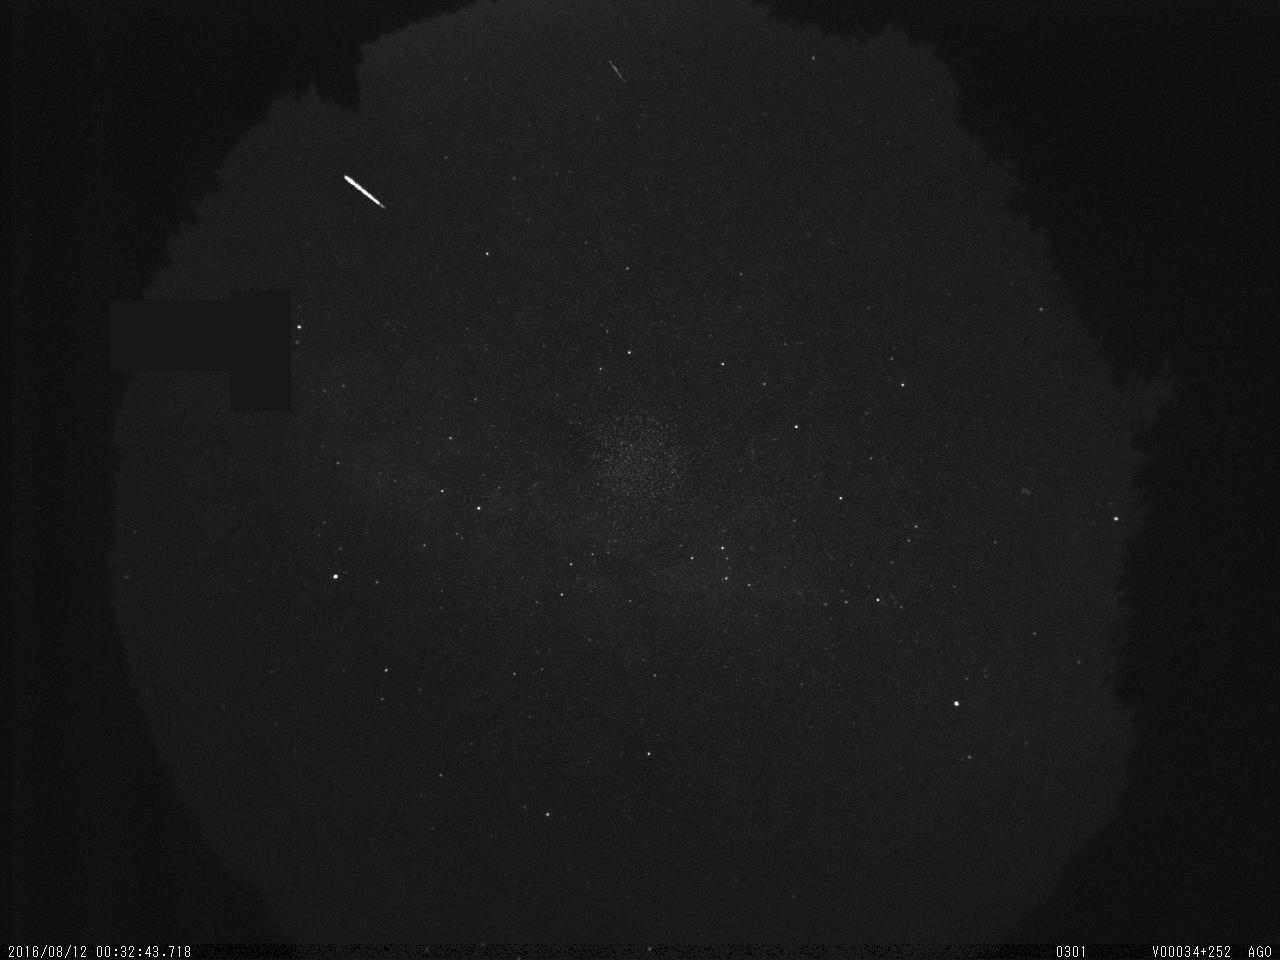meteor: (322, 145, 431, 215)
